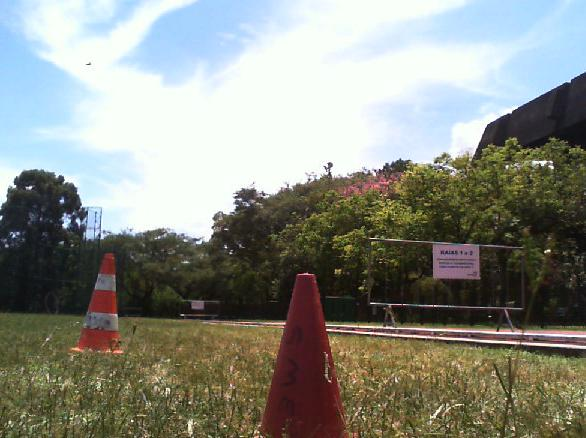0 cone: (251, 273, 356, 438), (71, 253, 123, 352)
